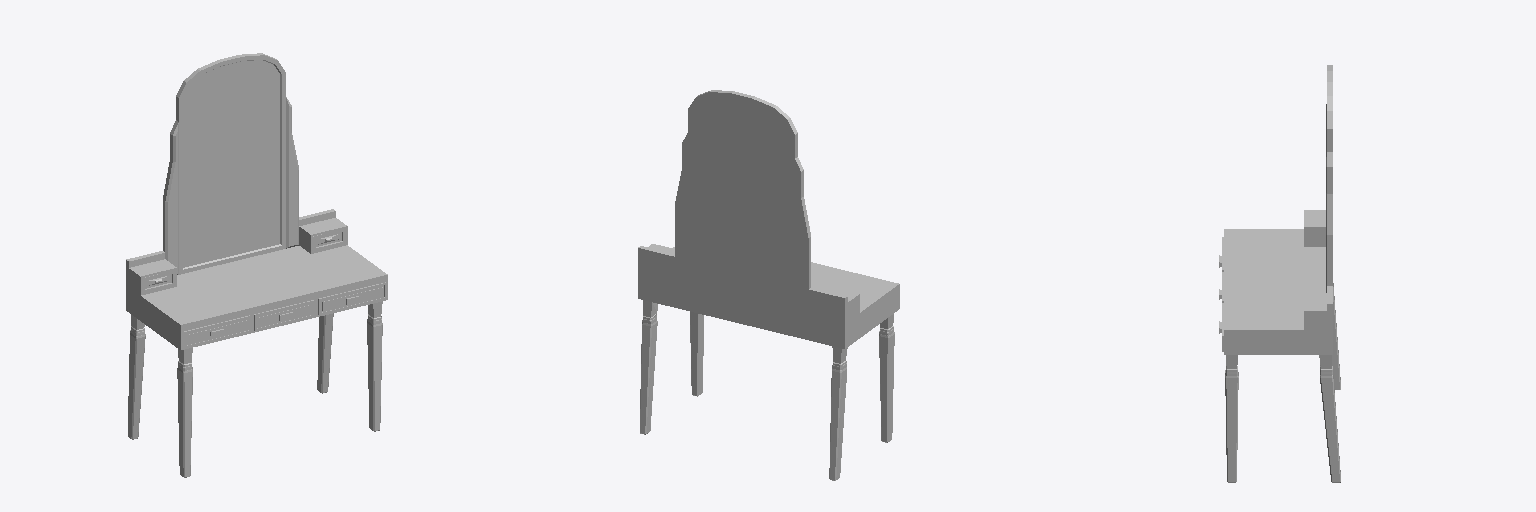
Rendered from MakeUp Desk.obj.
The picture shows the model from 3 angles: view 1: azimuth 30°, elevation 25°; view 2: azimuth 150°, elevation 25°; view 3: azimuth 270°, elevation 25°; orthographic projection.
Visible parts, largest first — view 1: Mesh; view 2: Mesh; view 3: Mesh.
Part boxes in pixels (left/top/right/bottom): Mesh: left=126, top=53, right=387, bottom=477; Mesh: left=638, top=90, right=899, bottom=480; Mesh: left=1219, top=65, right=1340, bottom=482.
Size of the model in its own units: 0.85 by 1.41 by 0.4355.